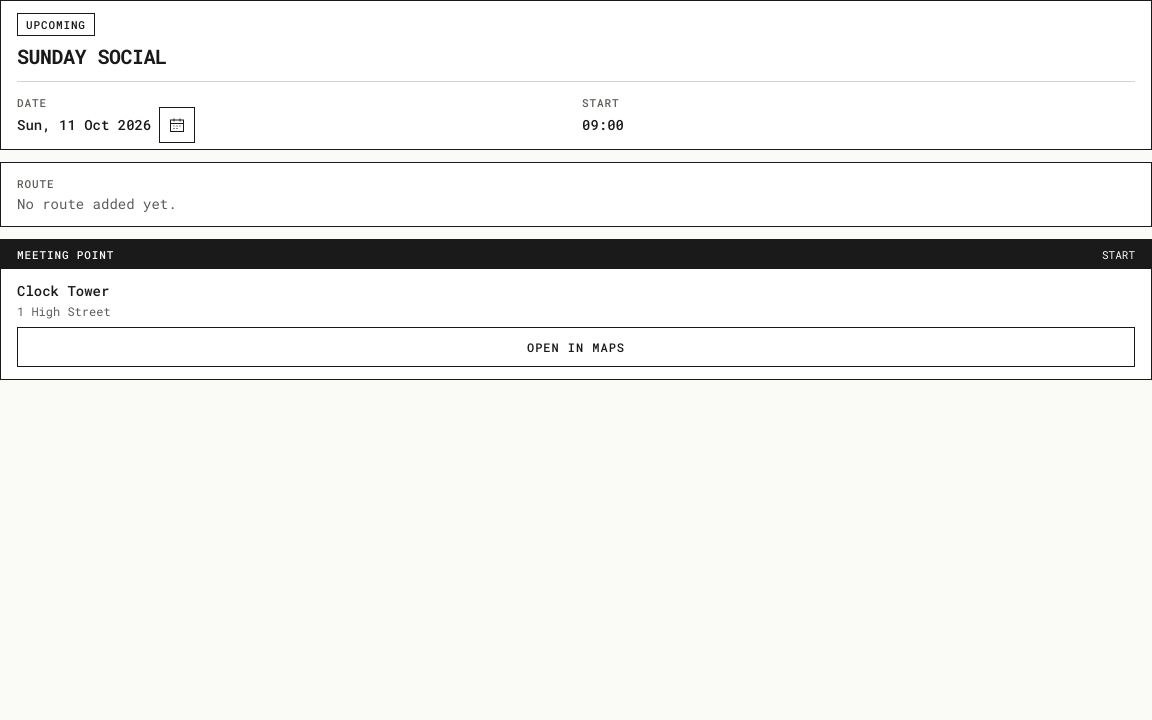
Test: mini calendar › expands and collapses for visitors on upcoming rides
The image size is (1152, 720).
What coordinates should you click on to do the following:
click the button named "Show calendar"
I would click on:
 (177, 125)
Its box is [159, 107, 195, 143].
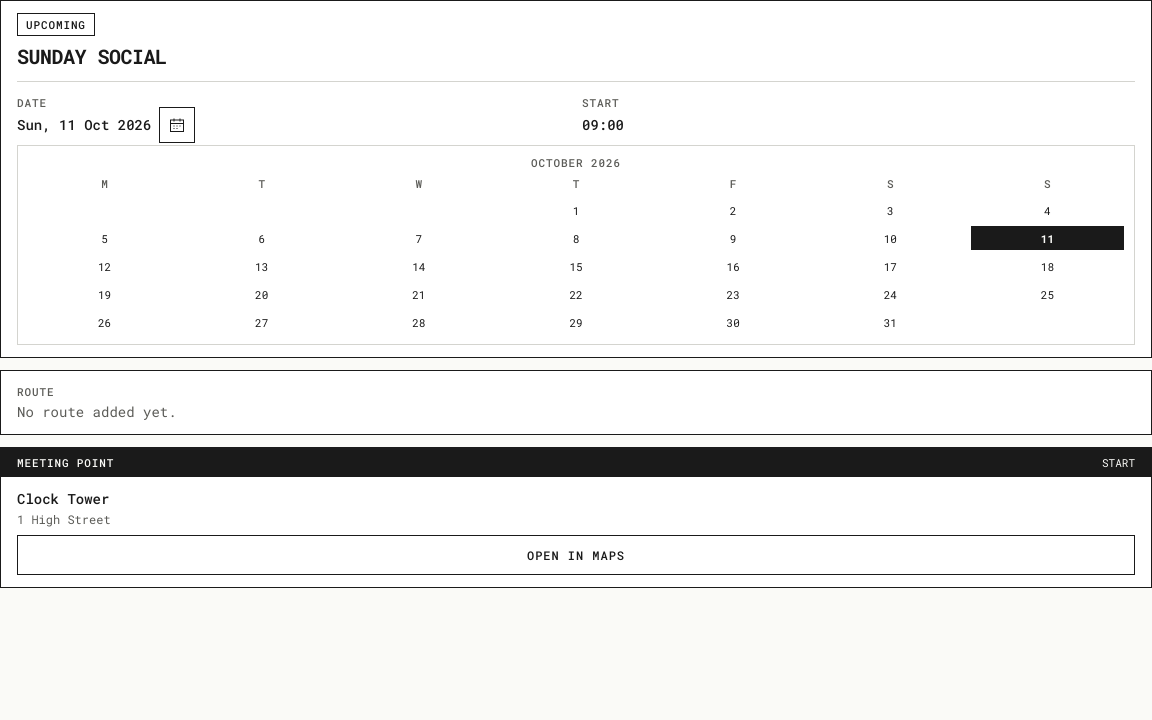
Now the element with test id "mini-calendar" shows "October 2026", box [531, 155, 621, 170]
Now the text "11" is shown, box [971, 226, 1124, 250]
What coordinates should you click on to do the following:
click the button named "Hide calendar"
I would click on:
 (177, 125)
Its box is [159, 107, 195, 143].
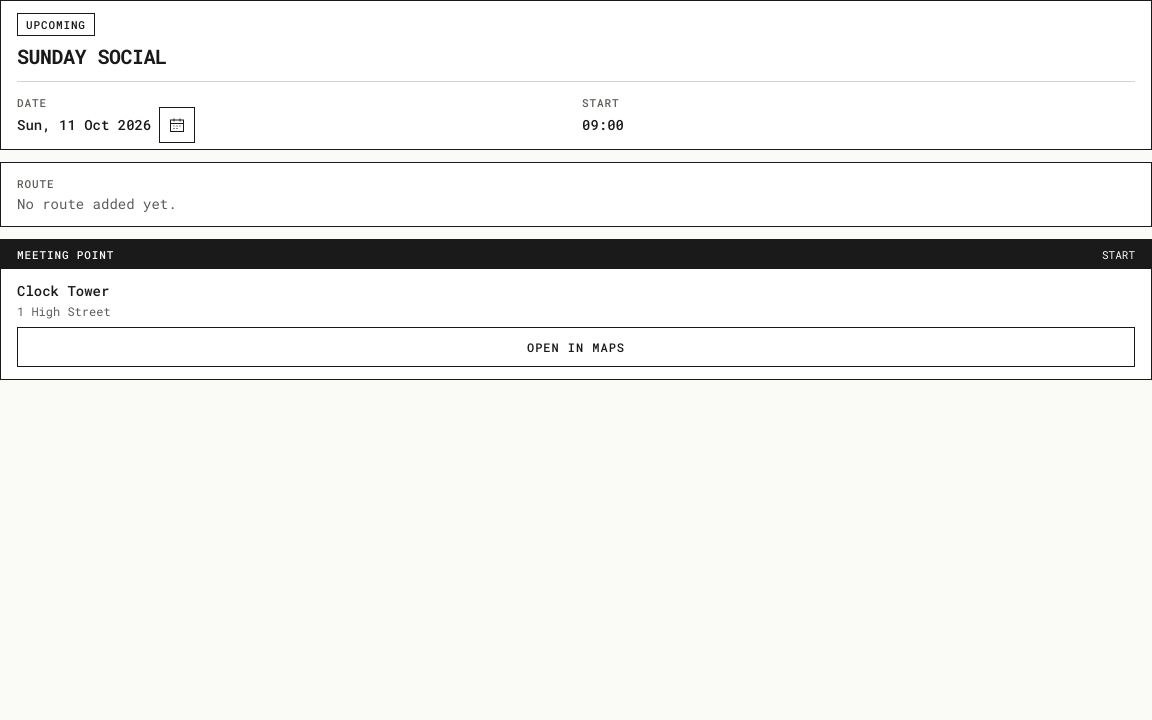
Now the element with test id "mini-calendar" is gone
